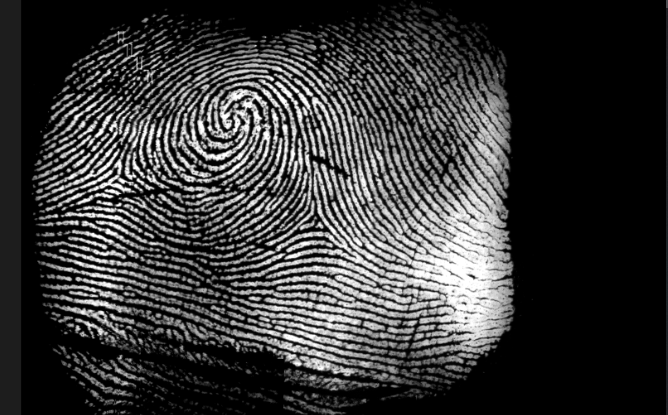nucelo: (209, 98, 248, 141)
verticilo: (295, 193, 335, 238), (98, 151, 134, 185)
